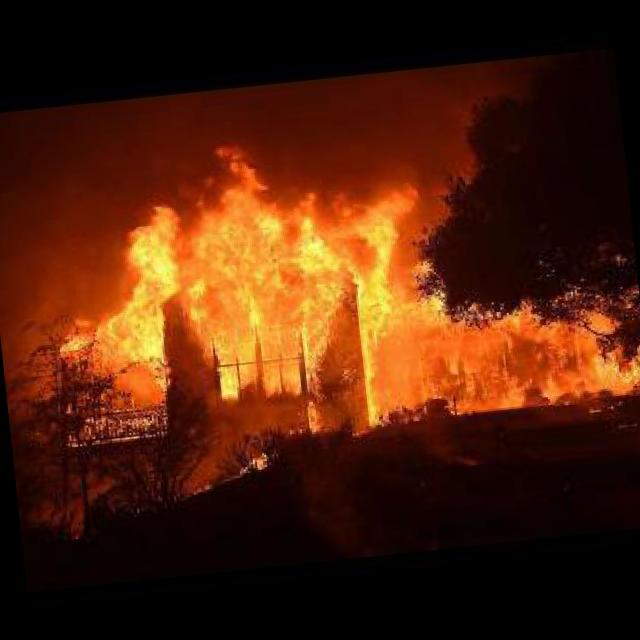fire: (44, 118, 640, 478)
